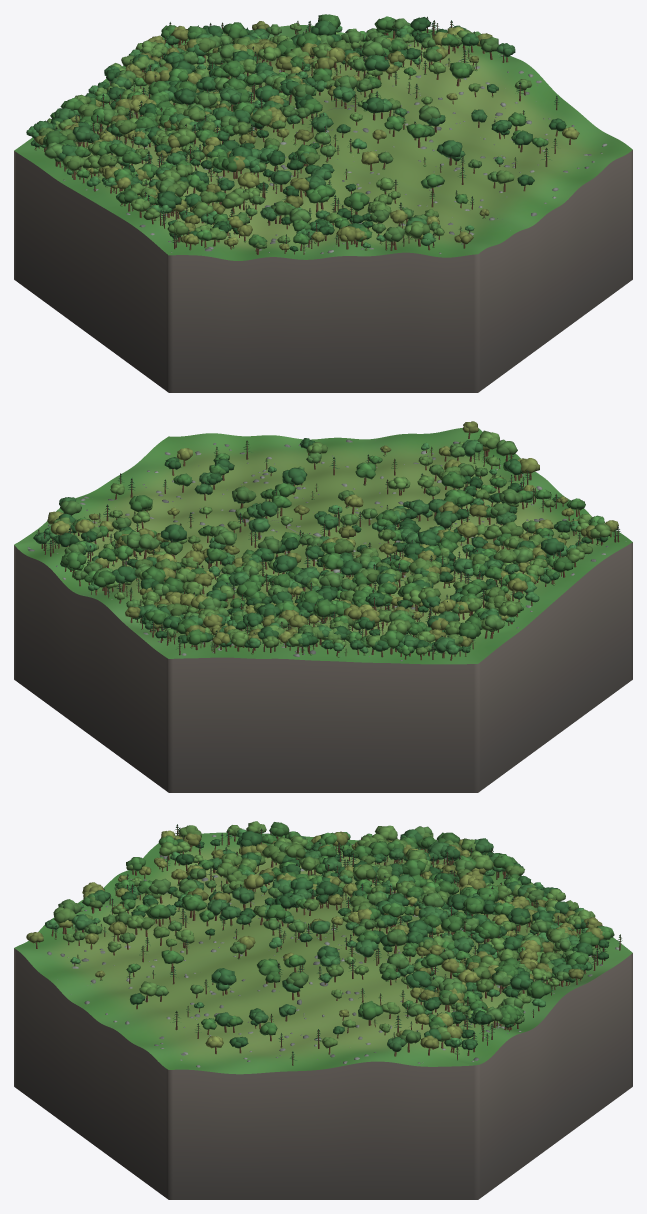
3 renders of one model, top to bottom at view 1: azimuth 30°, elevation 25°; view 2: azimuth 150°, elevation 25°; view 3: azimuth 270°, elevation 25°, orthographic.
Parts seen in each view (by area): view 1: hex_side_cut, broadleaf_canopy, terrain, trunks, conifer_canopy, boulders; view 2: hex_side_cut, broadleaf_canopy, terrain, trunks, conifer_canopy, boulders; view 3: hex_side_cut, broadleaf_canopy, terrain, trunks, conifer_canopy, boulders.
Part boxes in pixels (left/top/right/bottom): hex_side_cut: left=14, top=150, right=632, bottom=392; broadleaf_canopy: left=26, top=14, right=579, bottom=251; terrain: left=14, top=25, right=632, bottom=260; trunks: left=34, top=17, right=570, bottom=254; conifer_canopy: left=42, top=16, right=559, bottom=250; boulders: left=63, top=31, right=607, bottom=253; hex_side_cut: left=14, top=542, right=632, bottom=792; broadleaf_canopy: left=33, top=421, right=618, bottom=655; terrain: left=14, top=428, right=632, bottom=664; trunks: left=38, top=432, right=619, bottom=660; conifer_canopy: left=36, top=440, right=620, bottom=654; boulders: left=27, top=439, right=626, bottom=661; hex_side_cut: left=14, top=948, right=632, bottom=1199; broadleaf_canopy: left=26, top=821, right=614, bottom=1051; terrain: left=14, top=832, right=632, bottom=1074; trunks: left=35, top=825, right=620, bottom=1065; conifer_canopy: left=54, top=824, right=622, bottom=1060; boulders: left=47, top=835, right=619, bottom=1067.
Bounding box in the file's own units: 4330 × 1483 × 5000.
